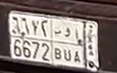2: (41, 18, 51, 63)
6: (21, 16, 32, 58), (13, 13, 21, 59)
7: (31, 18, 41, 60)
A: (73, 26, 84, 64)
B: (53, 24, 64, 64)
U: (64, 26, 75, 63)
